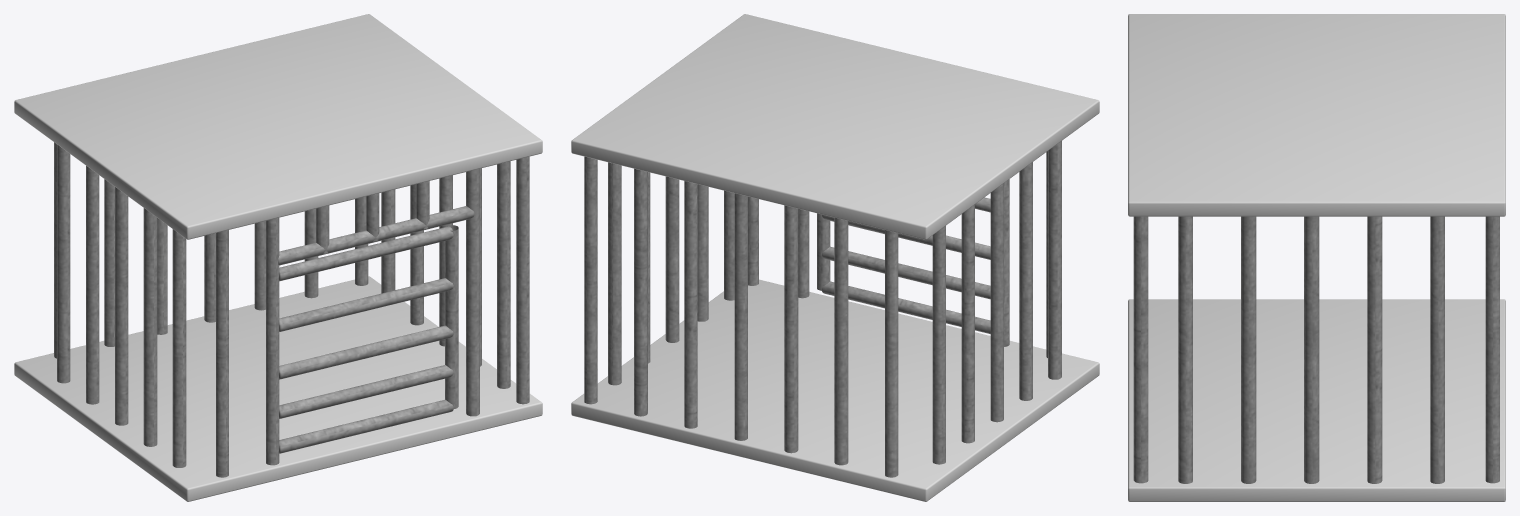
The model's file is kafes.fbx.
3 renders of one model, left to right at view 1: azimuth 30°, elevation 25°; view 2: azimuth 150°, elevation 25°; view 3: azimuth 270°, elevation 25°, orthographic. The views are drawn at different scales.
Parts seen in each view (by area): view 1: kafes; view 2: kafes; view 3: kafes.
Part boxes in pixels (x1,y1,x2,y2): kafes: (14, 14, 542, 501); kafes: (571, 14, 1099, 501); kafes: (1128, 14, 1505, 501).
Size of the model in its own units: 710 by 526 by 600.
